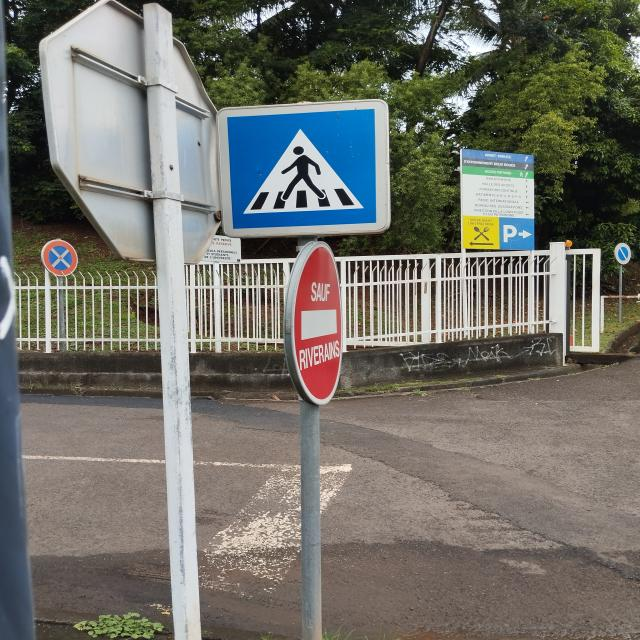Passage-pieton: (219, 99, 391, 237)
